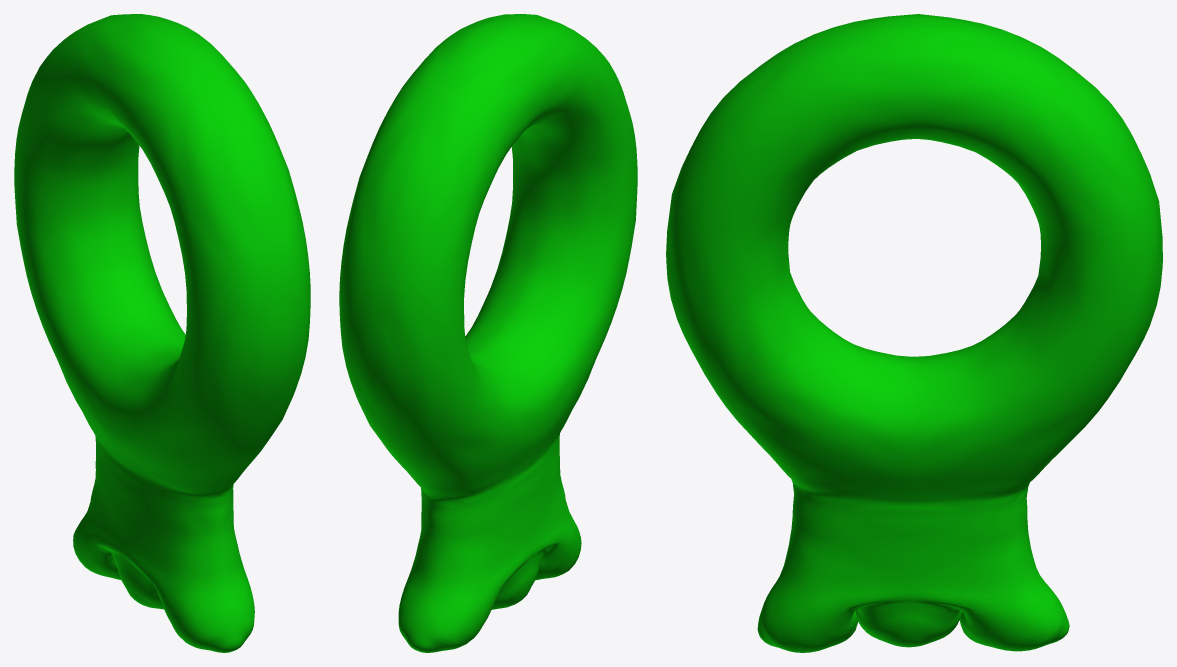
File: jade_resized.dae
The picture shows the model from 3 angles, left to right: view 1: azimuth 30°, elevation 25°; view 2: azimuth 150°, elevation 25°; view 3: azimuth 270°, elevation 25°; orthographic projection. The views are drawn at different scales.
Visible parts, largest first — view 1: pTorus1; view 2: pTorus1; view 3: pTorus1.
Part boxes in pixels (x1,y1,x2,y2): pTorus1: (14, 14, 310, 652); pTorus1: (339, 14, 637, 652); pTorus1: (666, 14, 1162, 652).
Bounding box in the file's own units: 0.411 × 2.06 × 1.48.
